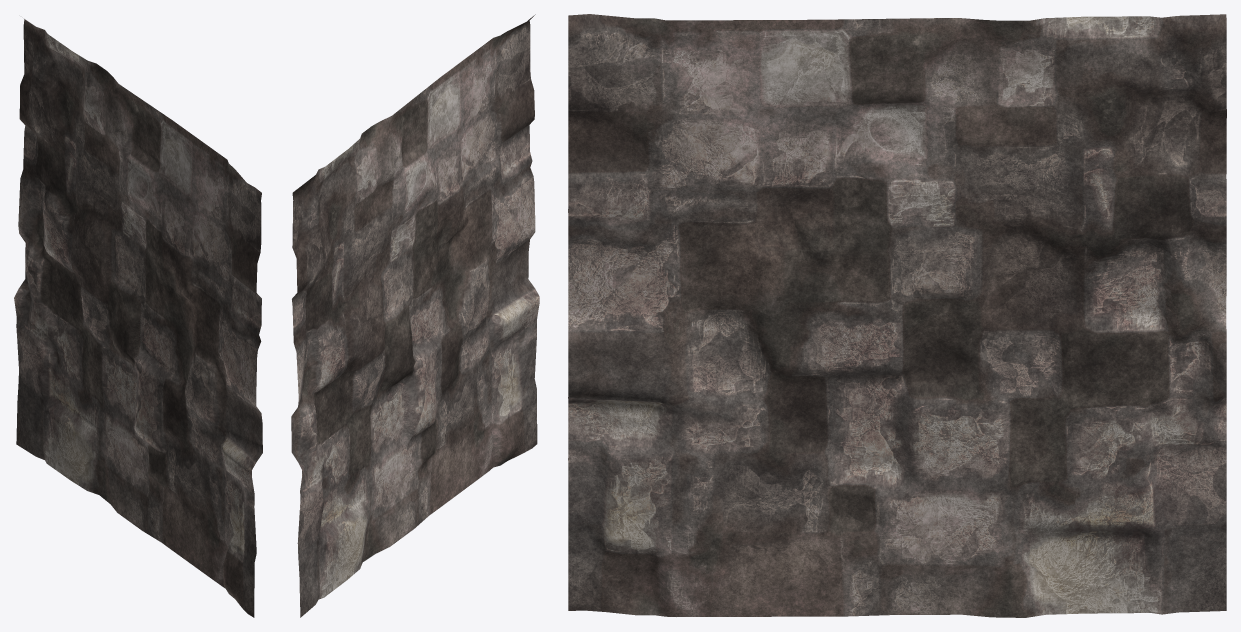
Rendered from SM_StoneWall_B_01.fbx.
3 renders of one model, left to right at view 1: azimuth 30°, elevation 25°; view 2: azimuth 150°, elevation 25°; view 3: azimuth 270°, elevation 25°, orthographic. The views are drawn at different scales.
Parts seen in each view (by area): view 1: SM_StoneWall_B_01_LOD0; view 2: SM_StoneWall_B_01_LOD0; view 3: SM_StoneWall_B_01_LOD0.
Boxes of the visible parts, x1=… form: SM_StoneWall_B_01_LOD0: x1=14, y1=19, x2=262, y2=617; SM_StoneWall_B_01_LOD0: x1=291, y1=14, x2=539, y2=617; SM_StoneWall_B_01_LOD0: x1=568, y1=14, x2=1226, y2=617.
Size of the model in its own units: 12.31 by 400 by 400.
